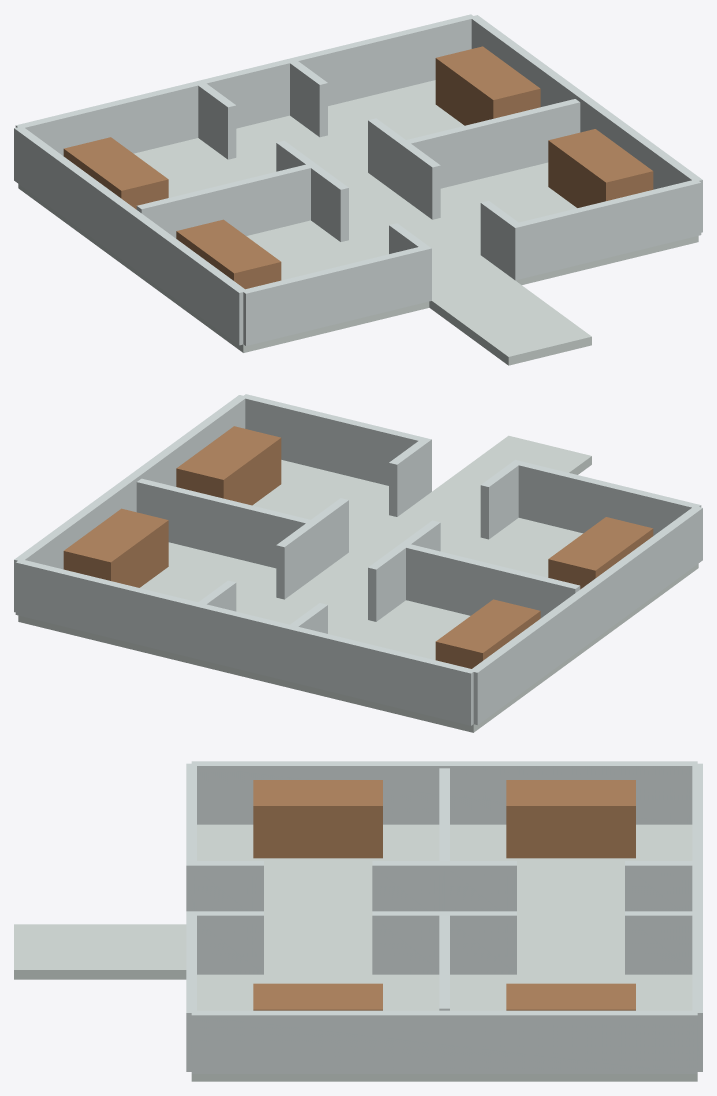
Rendered from triage-cutaway.glb.
The picture shows the model from 3 angles, top to bottom: view 1: azimuth 30°, elevation 25°; view 2: azimuth 150°, elevation 25°; view 3: azimuth 270°, elevation 25°; orthographic projection. The views are drawn at different scales.
Visible parts, largest first — view 1: triage/floor/cutaway.002, triage/rear-wall/cutaway.002, triage/outer--1/cutaway.002, triage/entry-jamb-1/cutaway.002, triage/entry-jamb--1/cutaway.002, triage/room-divider-1/cutaway.002, triage/portal-floor-0/cutaway.002, triage/room-divider--1/cutaway.002, triage/outer-1/cutaway.002, triage/desk-3/cutaway.002, triage/desk-1/cutaway.002, triage/desk-2/cutaway.002 (+9 smaller); view 2: triage/floor/cutaway.002, triage/rear-wall/cutaway.002, triage/outer--1/cutaway.002, triage/entry-jamb-1/cutaway.002, triage/room-divider-1/cutaway.002, triage/entry-jamb--1/cutaway.002, triage/room-divider--1/cutaway.002, triage/outer-1/cutaway.002, triage/desk-1/cutaway.002, triage/desk-3/cutaway.002, triage/desk-0/cutaway.002, triage/desk-2/cutaway.002 (+9 smaller); view 3: triage/floor/cutaway.002, triage/outer-1/cutaway.002, triage/outer--1/cutaway.002, triage/desk-0/cutaway.002, triage/desk-2/cutaway.002, triage/portal-floor-0/cutaway.002, triage/corridor-1-1-a/cutaway.002, triage/corridor-1--1-a/cutaway.002, triage/corridor-1-1-b/cutaway.002, triage/corridor-1--1-b/cutaway.002, triage/corridor--1-1-a/cutaway.002, triage/corridor--1--1-b/cutaway.002 (+9 smaller).
Boxes of the visible parts, bbox=[...] form: triage/floor/cutaway.002: bbox=[18, 80, 698, 352]; triage/rear-wall/cutaway.002: bbox=[15, 14, 472, 155]; triage/outer--1/cutaway.002: bbox=[14, 126, 244, 345]; triage/entry-jamb-1/cutaway.002: bbox=[510, 179, 701, 280]; triage/entry-jamb--1/cutaway.002: bbox=[241, 245, 431, 345]; triage/room-divider-1/cutaway.002: bbox=[406, 99, 580, 188]; triage/portal-floor-0/cutaway.002: bbox=[429, 278, 591, 365]; triage/room-divider--1/cutaway.002: bbox=[136, 164, 310, 238]; triage/outer-1/cutaway.002: bbox=[469, 15, 702, 232]; triage/desk-3/cutaway.002: bbox=[435, 46, 540, 125]; triage/desk-1/cutaway.002: bbox=[548, 129, 653, 207]; triage/desk-2/cutaway.002: bbox=[63, 137, 168, 209]; triage/floor/cutaway.002: bbox=[18, 460, 698, 732]; triage/rear-wall/cutaway.002: bbox=[15, 559, 473, 725]; triage/outer--1/cutaway.002: bbox=[469, 506, 702, 724]; triage/entry-jamb-1/cutaway.002: bbox=[242, 394, 431, 494]; triage/room-divider-1/cutaway.002: bbox=[136, 478, 310, 568]; triage/entry-jamb--1/cutaway.002: bbox=[513, 460, 701, 535]; triage/room-divider--1/cutaway.002: bbox=[406, 544, 580, 617]; triage/outer-1/cutaway.002: bbox=[14, 395, 246, 612]; triage/desk-1/cutaway.002: bbox=[176, 426, 281, 505]; triage/desk-3/cutaway.002: bbox=[63, 508, 168, 587]; triage/desk-0/cutaway.002: bbox=[548, 517, 653, 589]; triage/desk-2/cutaway.002: bbox=[435, 599, 540, 668]; triage/floor/cutaway.002: bbox=[191, 824, 697, 1081]; triage/outer-1/cutaway.002: bbox=[191, 1010, 697, 1073]; triage/outer--1/cutaway.002: bbox=[191, 761, 697, 824]; triage/desk-0/cutaway.002: bbox=[253, 780, 382, 858]; triage/desk-2/cutaway.002: bbox=[506, 780, 635, 858]; triage/portal-floor-0/cutaway.002: bbox=[14, 924, 186, 979]; triage/corridor-1-1-a/cutaway.002: bbox=[372, 911, 444, 974]; triage/corridor-1--1-a/cutaway.002: bbox=[625, 911, 697, 974]; triage/corridor-1-1-b/cutaway.002: bbox=[191, 911, 263, 974]; triage/corridor-1--1-b/cutaway.002: bbox=[444, 911, 516, 974]; triage/corridor--1-1-a/cutaway.002: bbox=[372, 861, 444, 911]; triage/corridor--1--1-b/cutaway.002: bbox=[444, 861, 516, 911].
Bounding box in the file's own units: 8.34 × 1.05 × 9.56.
